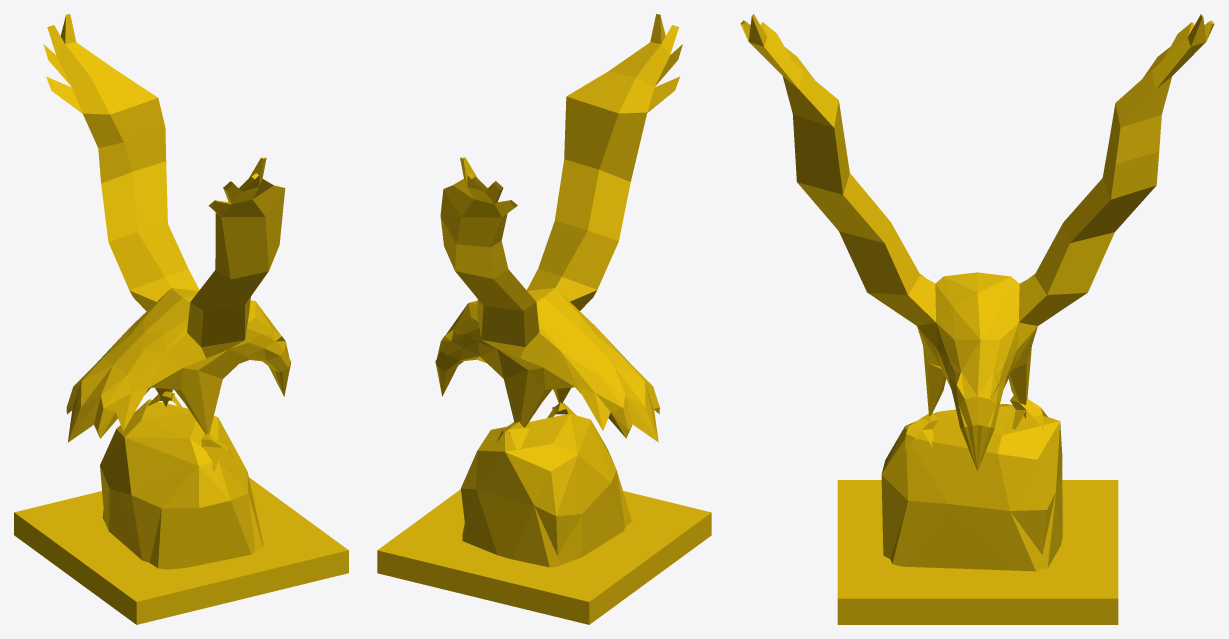
File: SM_EagleStatuette_01.FBX
3 views of the same model, side by side, from view 1: azimuth 30°, elevation 25°; view 2: azimuth 150°, elevation 25°; view 3: azimuth 270°, elevation 25° (orthographic). The views are drawn at different scales.
Parts seen in each view (by area): view 1: SM_EagleStatuette_01; view 2: SM_EagleStatuette_01; view 3: SM_EagleStatuette_01.
Part boxes in pixels (left/top/right/bottom): SM_EagleStatuette_01: left=14, top=14, right=348, bottom=624; SM_EagleStatuette_01: left=377, top=14, right=711, bottom=624; SM_EagleStatuette_01: left=740, top=14, right=1214, bottom=624.
Bounding box in the file's own units: 24.31 × 49.9 × 39.62.
